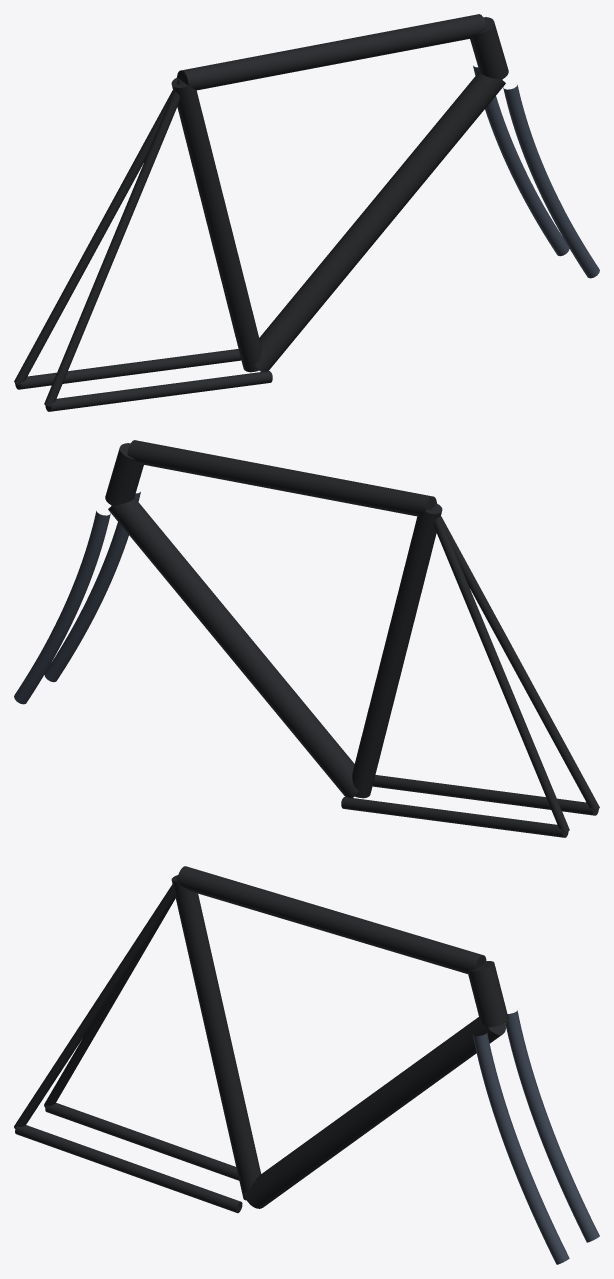
The model's file is dosnoventa-03-det-s.glb.
The picture shows the model from 3 angles, top to bottom: view 1: azimuth 30°, elevation 25°; view 2: azimuth 150°, elevation 25°; view 3: azimuth 330°, elevation 25°; orthographic projection.
Parts seen in each view (by area): view 1: paint_down, paint_top, paint_seat, paint_seatstay_0.045, fork_0.045, paint_seatstay_-0.045, paint_chainstay_0.045, paint_chainstay_-0.045, fork_-0.045, paint_head; view 2: paint_down, paint_top, paint_seat, paint_seatstay_-0.045, fork_-0.045, paint_seatstay_0.045, paint_chainstay_-0.045, paint_chainstay_0.045, fork_0.045, paint_head; view 3: paint_down, paint_top, paint_seat, fork_0.045, fork_-0.045, paint_chainstay_0.045, paint_seatstay_0.045, paint_chainstay_-0.045, paint_head, paint_seatstay_-0.045.
Part boxes in pixels (box(x1,y1,x2,y2)): paint_down: box(254, 71, 505, 371); paint_top: box(177, 14, 486, 90); paint_seat: box(171, 77, 261, 372); paint_seatstay_0.045: box(44, 80, 184, 406); fork_0.045: box(503, 85, 599, 278); paint_seatstay_-0.045: box(14, 79, 182, 385); paint_chainstay_0.045: box(45, 371, 272, 411); paint_chainstay_-0.045: box(15, 349, 241, 389); fork_-0.045: box(473, 65, 569, 256); paint_head: box(470, 17, 508, 79); paint_down: box(108, 497, 359, 797); paint_top: box(127, 440, 436, 516); paint_seat: box(352, 503, 442, 798); paint_seatstay_-0.045: box(429, 506, 569, 832); fork_-0.045: box(14, 511, 110, 704); paint_seatstay_0.045: box(431, 505, 599, 811); paint_chainstay_-0.045: box(341, 797, 568, 837); paint_chainstay_0.045: box(372, 775, 598, 815); fork_0.045: box(44, 491, 140, 682); paint_head: box(105, 443, 143, 505); paint_down: box(244, 1017, 505, 1208); paint_top: box(177, 866, 486, 973); paint_seat: box(171, 875, 260, 1200); fork_0.045: box(473, 1032, 569, 1264); fork_-0.045: box(505, 1010, 599, 1242); paint_chainstay_0.045: box(15, 1125, 242, 1213); paint_seatstay_0.045: box(14, 876, 177, 1128); paint_chainstay_-0.045: box(45, 1103, 239, 1180); paint_head: box(468, 961, 508, 1027); paint_seatstay_-0.045: box(44, 897, 175, 1107).
Size of the model in its own units: 0.9508 by 0.5273 by 0.112.
